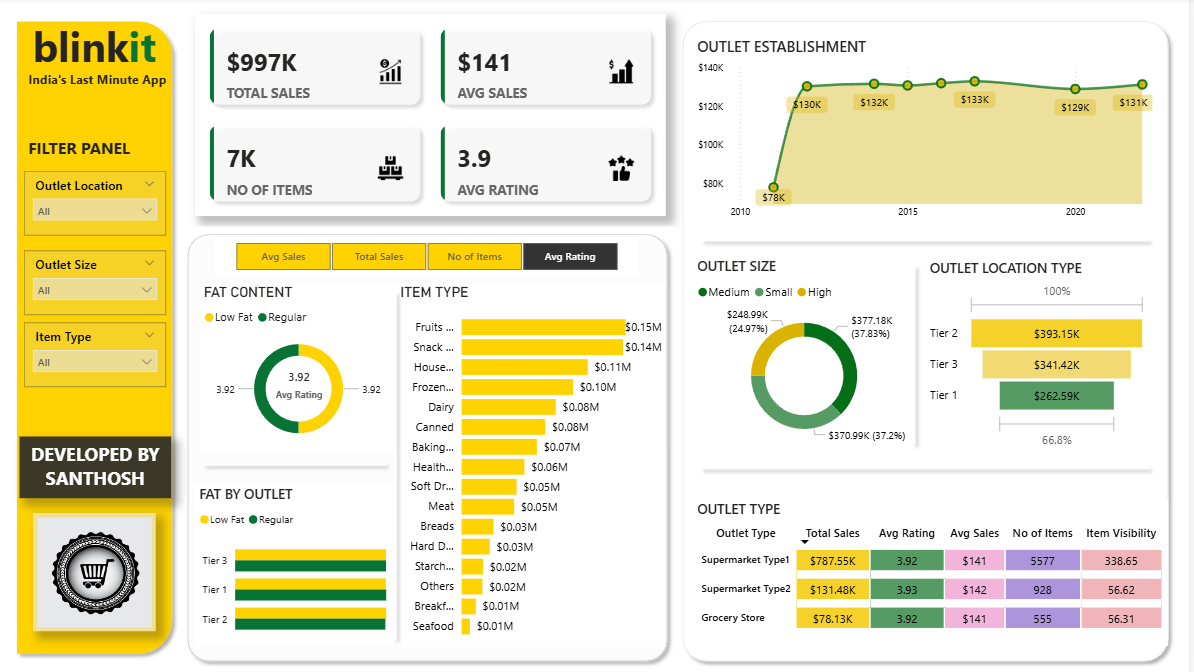

Layout of this report page (visuals, bound fields, positions):
{"tool":"powerbi","page":{"name":"Page 1","canvas":[1400,800],"ordinal":0},"visuals":[{"type":"textbox","box":[10,0,280,280],"z":0},{"type":"shape","box":[10.6,19.4,201.5,763.5],"z":1000},{"type":"textbox","box":[21.4,20,180,75.7],"z":2000},{"type":"textbox","box":[0,81.3,229.8,40.6],"z":3000},{"type":"cardVisual","fields":{"Data":["BlinkIT Grocery Data.Total Sales","BlinkIT Grocery Data.Average Sales","BlinkIT Grocery Data.Number of Items","BlinkIT Grocery Data.Average Rating"]},"box":[229.8,19.4,554.9,238.6],"z":4000},{"type":"shape","box":[212.1,270.4,583.2,521.4],"z":5000},{"type":"donutChart","title":"FAT CONTENT","fields":{"Y":["BlinkIT Grocery Data.Average Sales"],"Category":["BlinkIT Grocery Data.Item Fat Content"]},"box":[235.7,337.1,232.9,198.6],"z":6000},{"type":"slicer","fields":{"Values":["Metrics.Metrics"]},"box":[252.7,282.8,498.4,46],"z":7000},{"type":"cardVisual","fields":{"Data":["BlinkIT Grocery Data.Average Sales"]},"box":[304,420.6,97.2,67.2],"z":8000},{"type":"clusteredBarChart","title":"FAT BY OUTLET","fields":{"Y":["BlinkIT Grocery Data.Average Sales"],"Category":["BlinkIT Grocery Data.Outlet Location Type"],"Series":["BlinkIT Grocery Data.Item Fat Content"]},"box":[229.8,574.4,233.3,190.9],"z":9000},{"type":"shape","box":[229.8,533.7,233.3,33.6],"z":10000},{"type":"barChart","title":"ITEM TYPE","fields":{"Category":["BlinkIT Grocery Data.Item Type"],"Y":["BlinkIT Grocery Data.Total Sales"]},"box":[466.6,337.6,318.1,427.7],"z":11000},{"type":"shape","box":[450,337.1,30,428.6],"z":12000},{"type":"shape","box":[795.3,19.4,590.3,772.3],"z":13000},{"type":"lineChart","title":"OUTLET ESTABLISHMENT","fields":{"Y":["BlinkIT Grocery Data.Total Sales"],"Category":["BlinkIT Grocery Data.Outlet Establishment Year"]},"box":[816.5,46,546.1,224.5],"z":14000},{"type":"shape","box":[816.5,266.9,546.1,38.9],"z":15000},{"type":"donutChart","title":"OUTLET SIZE","fields":{"Category":["BlinkIT Grocery Data.Outlet Size"],"Y":["BlinkIT Grocery Data.Total Sales"]},"box":[816.2,306.2,261.2,230],"z":16000},{"type":"funnel","title":"OUTLET LOCATION TYPE","fields":{"Category":["BlinkIT Grocery Data.Outlet Location Type"],"Y":["BlinkIT Grocery Data.Total Sales"]},"box":[1090,307.5,265,228.8],"z":17000},{"type":"shape","box":[816.2,536.2,546.2,38.8],"z":18000},{"type":"shape","box":[1063.8,307.5,26.2,228.8],"z":19000},{"type":"pivotTable","title":"OUTLET TYPE","fields":{"Rows":["BlinkIT Grocery Data.Outlet Type"],"Values":["BlinkIT Grocery Data.Total Sales","BlinkIT Grocery Data.Average Rating","BlinkIT Grocery Data.Average Sales","BlinkIT Grocery Data.Number of Items","Sum(BlinkIT Grocery Data.Item Visibility)"]},"box":[816.2,592.5,560,172.5],"z":20000},{"type":"slicer","fields":{"Values":["BlinkIT Grocery Data.Outlet Location Type"]},"box":[28.6,204.3,167.1,75.7],"z":21000},{"type":"slicer","fields":{"Values":["BlinkIT Grocery Data.Outlet Size"]},"box":[28.6,298.6,167.1,75.7],"z":22000},{"type":"slicer","fields":{"Values":["BlinkIT Grocery Data.Item Type"]},"box":[28.6,384.3,167.1,75.7],"z":23000},{"type":"textbox","box":[23,517.8,178.5,72.5],"z":24000},{"type":"textbox","box":[28.3,159.1,139.6,37.1],"z":25000},{"type":"image","box":[38.9,608,144.9,139.6],"z":26000}]}

Visuals, with their boxes in screenshot pixels (x1, y1, x2, y2), scaled from the page's 1400x800 canvas onto the 1194x672 screenshot:
textbox: bbox(9, 0, 247, 235)
shape: bbox(9, 16, 181, 658)
textbox: bbox(18, 17, 172, 80)
textbox: bbox(0, 68, 196, 102)
cardVisual - BlinkIT Grocery Data.Total Sales x BlinkIT Grocery Data.Average Sales: bbox(196, 16, 669, 217)
shape: bbox(181, 227, 678, 665)
"FAT CONTENT" donutChart: bbox(201, 283, 400, 450)
slicer - Metrics.Metrics: bbox(216, 238, 641, 276)
cardVisual - BlinkIT Grocery Data.Average Sales: bbox(259, 353, 342, 410)
"FAT BY OUTLET" clusteredBarChart: bbox(196, 482, 395, 643)
shape: bbox(196, 448, 395, 477)
"ITEM TYPE" barChart: bbox(398, 284, 669, 643)
shape: bbox(384, 283, 409, 643)
shape: bbox(678, 16, 1182, 665)
"OUTLET ESTABLISHMENT" lineChart: bbox(696, 39, 1162, 227)
shape: bbox(696, 224, 1162, 257)
"OUTLET SIZE" donutChart: bbox(696, 257, 919, 450)
"OUTLET LOCATION TYPE" funnel: bbox(930, 258, 1156, 450)
shape: bbox(696, 450, 1162, 483)
shape: bbox(907, 258, 930, 450)
"OUTLET TYPE" pivotTable: bbox(696, 498, 1174, 643)
slicer - BlinkIT Grocery Data.Outlet Location Type: bbox(24, 172, 167, 235)
slicer - BlinkIT Grocery Data.Outlet Size: bbox(24, 251, 167, 314)
slicer - BlinkIT Grocery Data.Item Type: bbox(24, 323, 167, 386)
textbox: bbox(20, 435, 172, 496)
textbox: bbox(24, 134, 143, 165)
image: bbox(33, 511, 157, 628)
